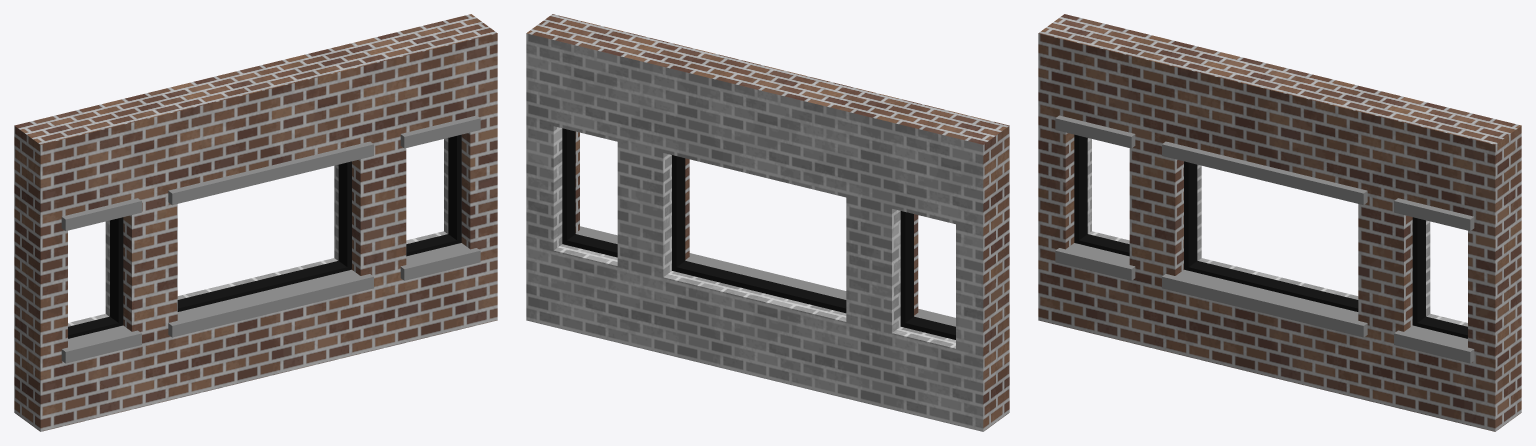
The model's file is Window_Wall_002.FBX.
3 views of the same model, side by side, from view 1: azimuth 30°, elevation 25°; view 2: azimuth 150°, elevation 25°; view 3: azimuth 330°, elevation 25° (orthographic).
Visible parts, largest first — view 1: Window_Wall_002; view 2: Window_Wall_002; view 3: Window_Wall_002.
Boxes of the visible parts, x1=… form: Window_Wall_002: x1=14, y1=14, x2=497, y2=431; Window_Wall_002: x1=526, y1=14, x2=1009, y2=431; Window_Wall_002: x1=1038, y1=14, x2=1521, y2=431.
Size of the model in its own units: 500 by 57.5 by 300.
